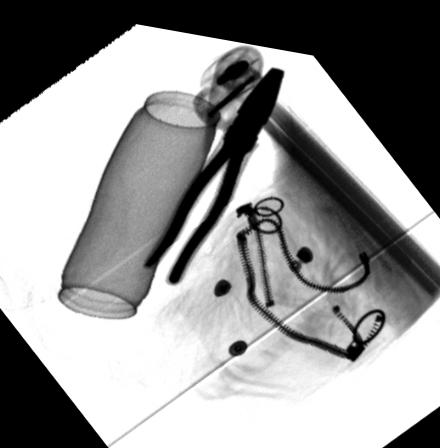Pliers: (139, 54, 286, 280)
